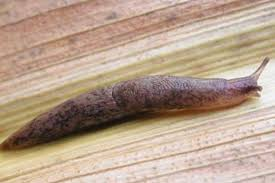slug: (1, 59, 273, 151)
